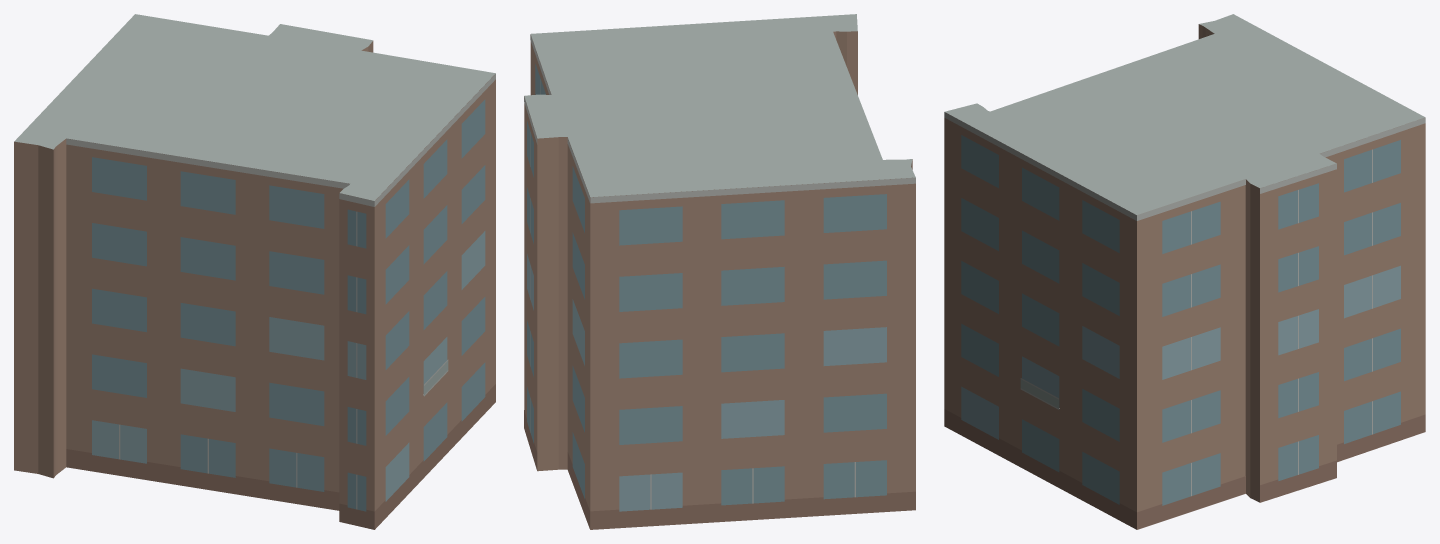
Rendered from survey-upis-32850290.glb.
3 renders of one model, left to right at view 1: azimuth 30°, elevation 25°; view 2: azimuth 150°, elevation 25°; view 3: azimuth 270°, elevation 25°, orthographic. The views are drawn at different scales.
Parts seen in each view (by area): view 1: survey-upis-32850290.tmp; view 2: survey-upis-32850290.tmp; view 3: survey-upis-32850290.tmp.
Part boxes in pixels (x1,y1,x2,y2): survey-upis-32850290.tmp: (14,14,495,529); survey-upis-32850290.tmp: (524,14,915,529); survey-upis-32850290.tmp: (944,14,1425,529).
Size of the model in its own units: 18.13 by 13.2 by 18.31.
